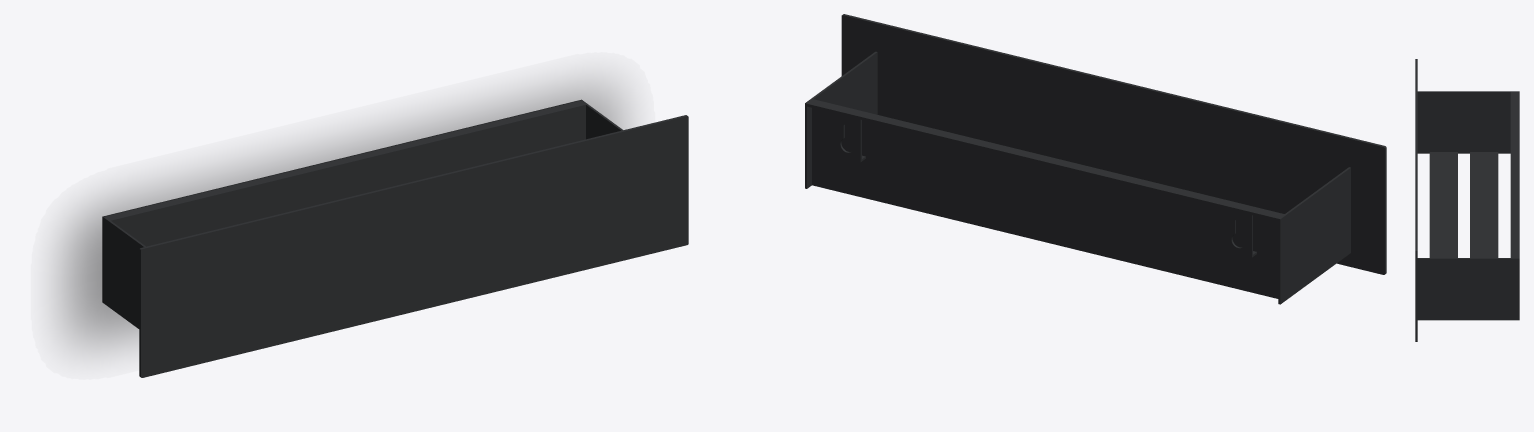
Rendered from skyline-mono.2d8f369eb2.ar.glb.
The picture shows the model from 3 angles, left to right: view 1: azimuth 30°, elevation 25°; view 2: azimuth 150°, elevation 25°; view 3: azimuth 270°, elevation 25°; orthographic projection. The views are drawn at different scales.
Visible parts, largest first — view 1: NAUO1, object 2; view 2: NAUO1; view 3: NAUO1.
Part boxes in pixels (box(x1,y1,x2,y2)): NAUO1: box(102, 99, 688, 377); object 2: box(57, 82, 627, 349); NAUO1: box(805, 14, 1386, 304); NAUO1: box(1415, 59, 1519, 341).
Bounding box in the file's own units: 0.48 × 0.17 × 0.092.
Materials: 2 (1 with a texture image).
